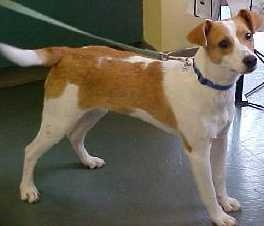dog: (20, 9, 264, 202)
